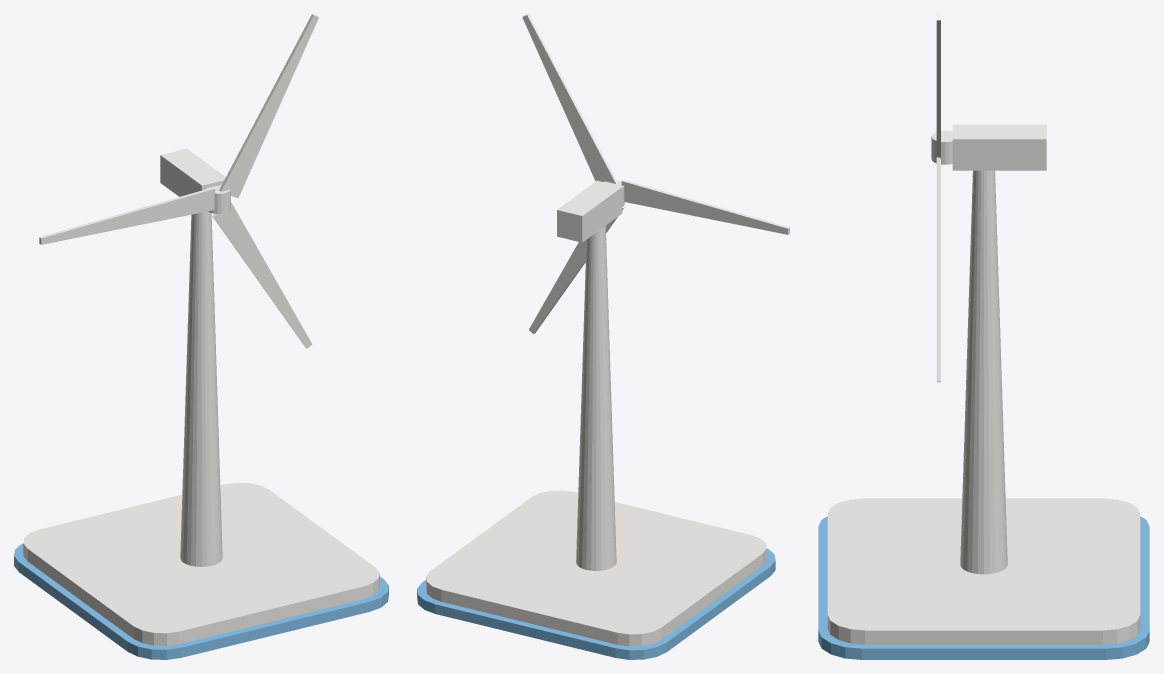
File: wind.glb
3 views of the same model, side by side, from view 1: azimuth 30°, elevation 25°; view 2: azimuth 150°, elevation 25°; view 3: azimuth 270°, elevation 25° (orthographic). The views are drawn at different scales.
Parts seen in each view (by area): view 1: base, white, rim_3d8fe0; view 2: base, white, rim_3d8fe0; view 3: base, white, rim_3d8fe0.
Boxes of the visible parts, left/top/right/bottom form: base: left=23, top=482, right=379, bottom=645; white: left=39, top=14, right=318, bottom=566; rim_3d8fe0: left=14, top=543, right=388, bottom=659; base: left=426, top=490, right=766, bottom=646; white: left=522, top=14, right=789, bottom=570; rim_3d8fe0: left=417, top=548, right=775, bottom=659; base: left=827, top=498, right=1140, bottom=644; white: left=931, top=14, right=1046, bottom=574; rim_3d8fe0: left=818, top=516, right=1149, bottom=659.
Size of the model in its own units: 6.4 by 11.04 by 5.3.
